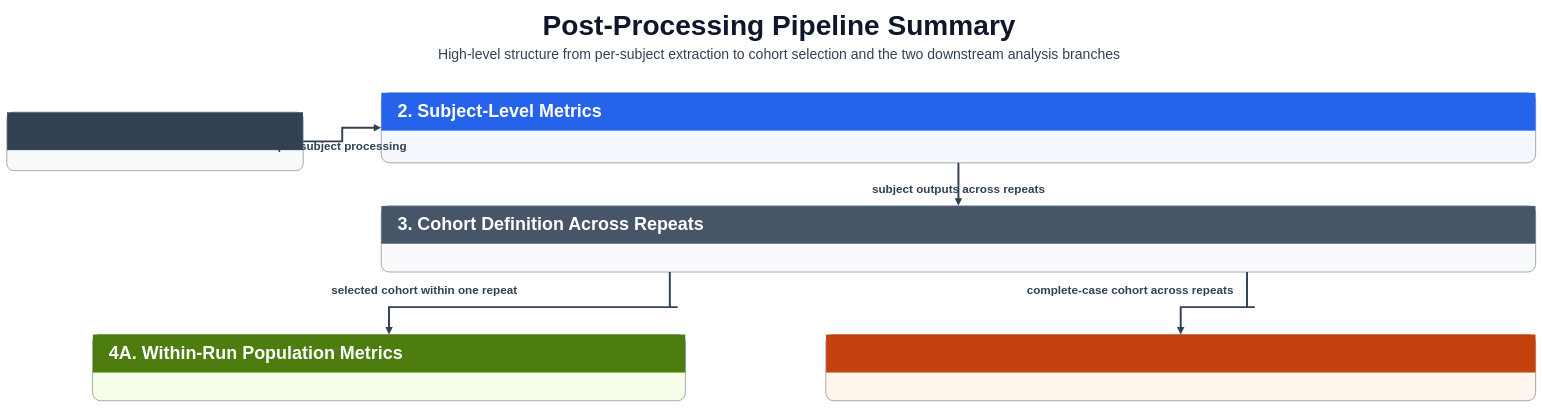
Image size: 1542x408. Some labels were removed from this diagram. The box of each missing label's shape, as (x1, y1, x2, y2) in pixels:
1. Analysis Inputs: (7, 112, 303, 150)
4B. Across-Repeat Analysis and Reports: (826, 334, 1535, 372)
